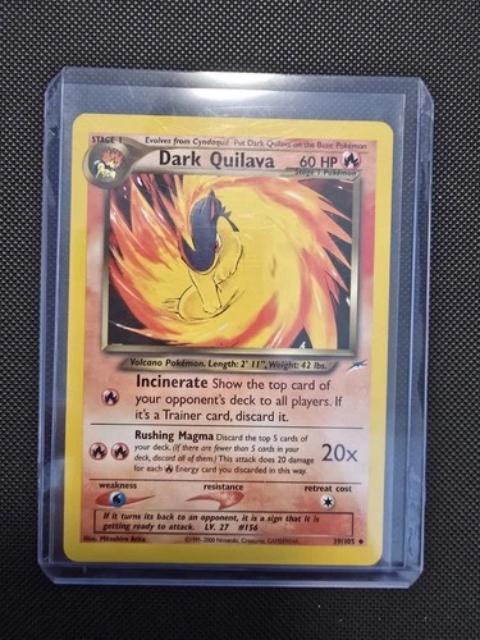Card: (59, 106, 400, 570)
Name: (149, 145, 278, 171)
